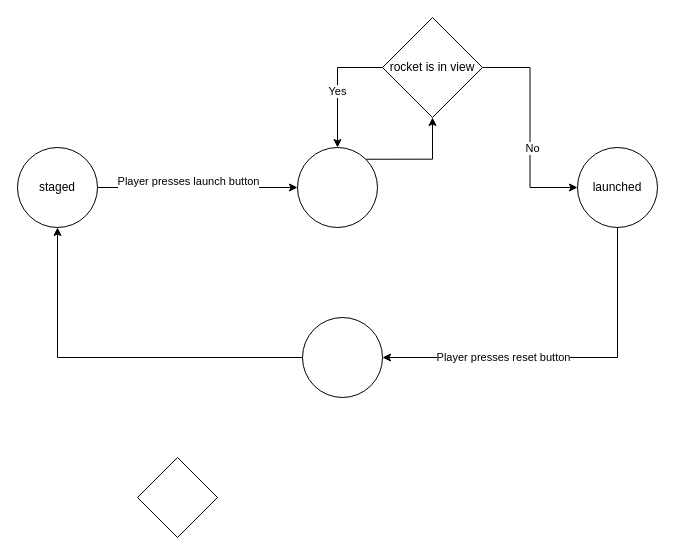
The diagram is 675 pixels wide and 555 high, and some of its shapes have lost their labels. The shapes that lost their labels are listed below. From the top down, each one's centre as x and y in pixels, then its label:
pixel 337 187: launching
pixel 342 357: resetting
